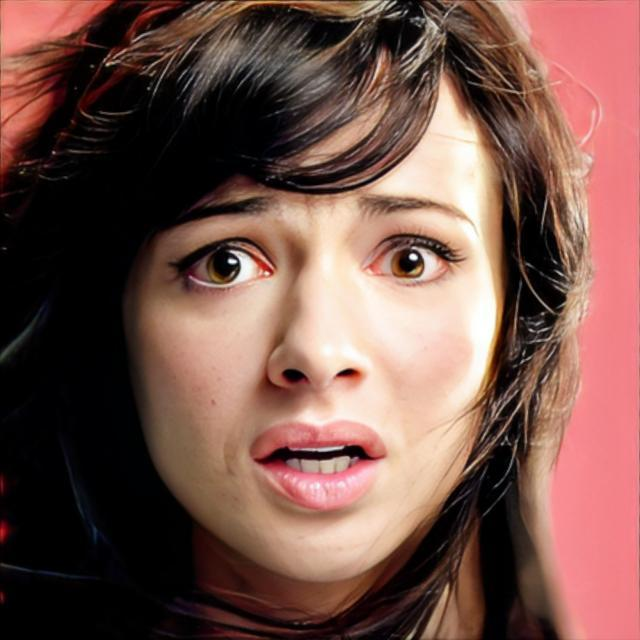fear: (124, 37, 508, 583)
